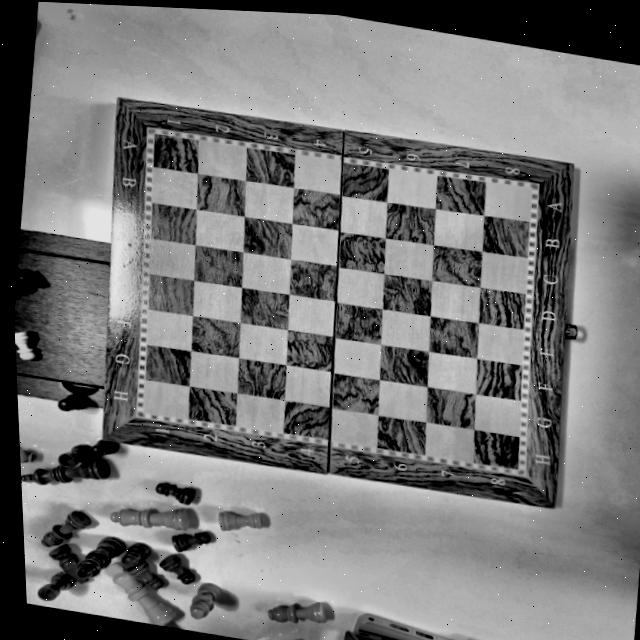chessboard: (104, 98, 570, 508)
